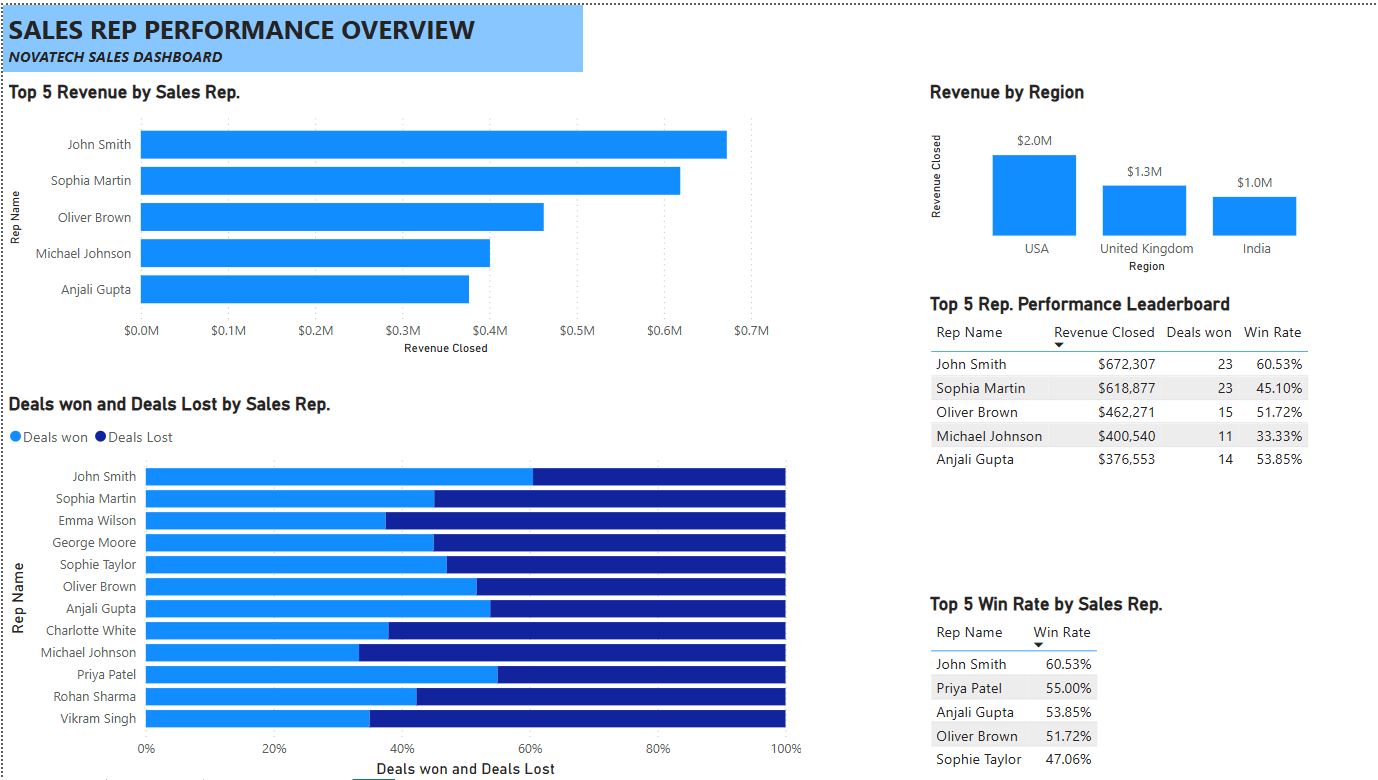

Layout of this report page (visuals, bound fields, positions):
{"tool":"powerbi","page":{"name":"Rep. Performance ","canvas":[1280,720],"ordinal":1},"visuals":[{"type":"clusteredBarChart","title":"Revenue by Sales Rep.","fields":{"Y":["Sales_Transactions.Revenue Closed"],"Category":["Sales_Transactions.Rep Name"]},"box":[0,69.7,713.5,258.2],"z":1},{"type":"hundredPercentStackedBarChart","title":"Deals won and Deals Lost by Sales Rep.","fields":{"Y":["Sales_Transactions.Deals won","Sales_Transactions.Deals Lost"],"Category":["Sales_Transactions.Rep Name"]},"box":[0,359.5,744,360.6],"z":2},{"type":"tableEx","title":"Win Rate by Sales Rep.","fields":{"Values":["Sales_Transactions.Rep Name","Sales_Transactions.Win Rate"]},"box":[853,521.8,394.3,198.3],"z":3},{"type":"map","title":"Revenue by Region","fields":{"Category":["Sales_Transactions.Region"],"Size":["Sales_Transactions.Revenue Closed"]},"box":[853,69.7,394.3,181.9],"z":4},{"type":"tableEx","title":"Top 5 Rep. Performance Leaderboard","fields":{"Values":["Sales_Transactions.Rep Name","Sales_Transactions.Revenue Closed","Sales_Transactions.Deals won","Sales_Transactions.Win Rate"]},"box":[853,287.6,394.3,215.7],"z":5},{"type":"textbox","box":[0,0,537,62.1],"z":6}]}

Visuals, with their boxes in screenshot pixels (x1, y1, x2, y2), scaled from the page's 1280x720 canvas onto the 1378x780 screenshot:
"Revenue by Sales Rep." clusteredBarChart: {"left": 0, "top": 76, "right": 768, "bottom": 355}
"Deals won and Deals Lost by Sales Rep." hundredPercentStackedBarChart: {"left": 0, "top": 389, "right": 801, "bottom": 779}
"Win Rate by Sales Rep." tableEx: {"left": 918, "top": 565, "right": 1343, "bottom": 779}
"Revenue by Region" map: {"left": 918, "top": 76, "right": 1343, "bottom": 273}
"Top 5 Rep. Performance Leaderboard" tableEx: {"left": 918, "top": 312, "right": 1343, "bottom": 545}
textbox: {"left": 0, "top": 0, "right": 578, "bottom": 67}
